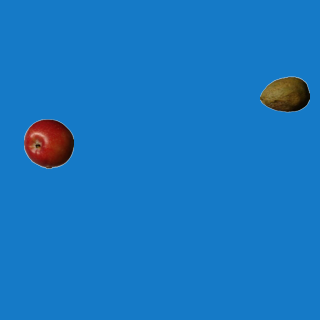Apple Braeburn: (23, 118, 73, 168)
Papaya: (259, 69, 309, 119)
